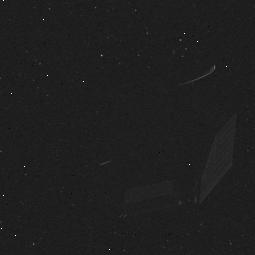cheops: (96, 60, 238, 216)
